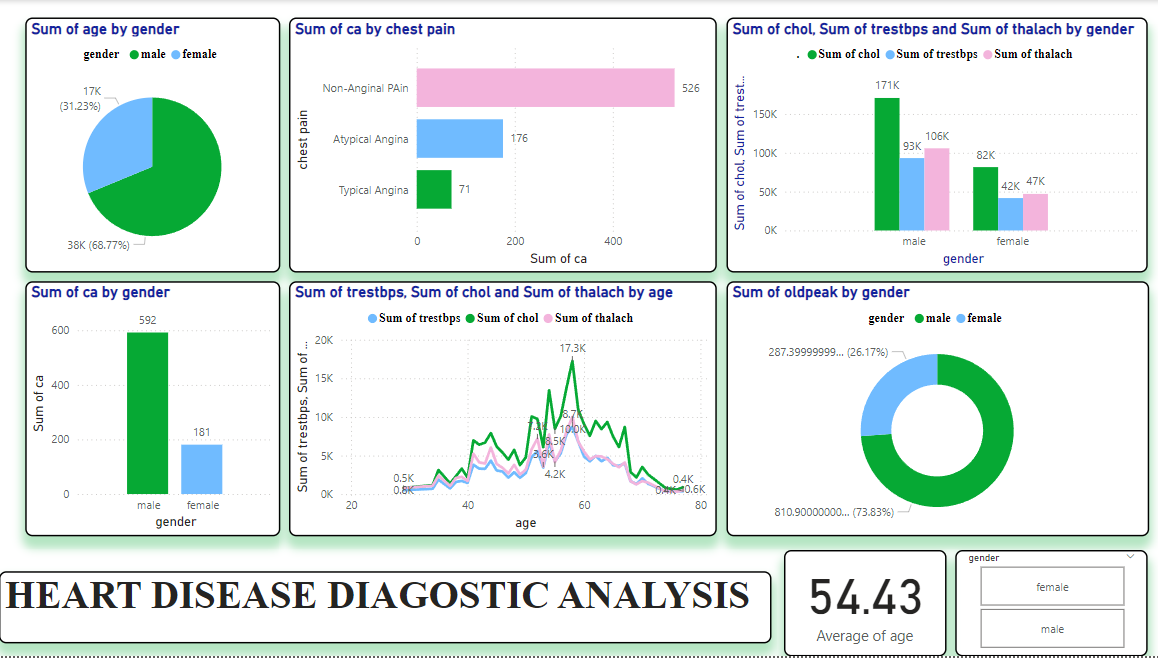

The dashboard page shown, as its layout file describes it:
{"tool":"powerbi","page":{"name":"Page 1","canvas":[1280,720],"ordinal":0},"visuals":[{"type":"pieChart","fields":{"Category":["Heart Disease data.gender "],"Y":["Sum(Heart Disease data.age)"]},"box":[28.8,19.2,279.9,279.9],"z":0},{"type":"clusteredColumnChart","fields":{"Y":["Sum(Heart Disease data.ca)"],"Category":["Heart Disease data.gender "]},"box":[29,309,280,280],"z":1000},{"type":"barChart","fields":{"Category":["Heart Disease data.chest pain"],"Y":["Sum(Heart Disease data.ca)"]},"box":[318.4,19.2,469.3,279.9],"z":2000},{"type":"lineChart","fields":{"Category":["Heart Disease data.age"],"Y":["Sum(Heart Disease data.trestbps)","Sum(Heart Disease data.chol)","Sum(Heart Disease data.thalach)"]},"box":[318.4,308.7,469.3,279.9],"z":3000},{"type":"clusteredColumnChart","fields":{"Y":["Sum(Heart Disease data.chol)","Sum(Heart Disease data.trestbps)","Sum(Heart Disease data.thalach)"],"Category":["Heart Disease data.gender "]},"box":[798.6,19.2,462.4,279.9],"z":4000},{"type":"donutChart","fields":{"Category":["Heart Disease data.gender "],"Y":["Sum(Heart Disease data.oldpeak)"]},"box":[798.6,308.7,463.8,279.9],"z":5000},{"type":"slicer","fields":{"Values":["Heart Disease data.gender "]},"box":[1049.7,603.8,211.3,116.6],"z":6000},{"type":"card","fields":{"Values":["Avg(Heart Disease data.age)"]},"box":[861.8,603.8,178.4,116.6],"z":7000},{"type":"textbox","box":[0,627.1,848,79.6],"z":8000}]}

Visuals, with their boxes in screenshot pixels (x1, y1, x2, y2), scaled from the page's 1280x720 canvas onto the 1158x666 screenshot:
pieChart - Heart Disease data.gender  x Sum(Heart Disease data.age): (x1=26, y1=18, x2=279, y2=277)
clusteredColumnChart - Sum(Heart Disease data.ca) x Heart Disease data.gender : (x1=26, y1=286, x2=280, y2=545)
barChart - Heart Disease data.chest pain x Sum(Heart Disease data.ca): (x1=288, y1=18, x2=713, y2=277)
lineChart - Heart Disease data.age x Sum(Heart Disease data.trestbps): (x1=288, y1=286, x2=713, y2=544)
clusteredColumnChart - Sum(Heart Disease data.chol) x Sum(Heart Disease data.trestbps): (x1=722, y1=18, x2=1141, y2=277)
donutChart - Heart Disease data.gender  x Sum(Heart Disease data.oldpeak): (x1=722, y1=286, x2=1142, y2=544)
slicer - Heart Disease data.gender : (x1=950, y1=559, x2=1141, y2=665)
card - Avg(Heart Disease data.age): (x1=780, y1=559, x2=941, y2=665)
textbox: (x1=0, y1=580, x2=767, y2=654)
